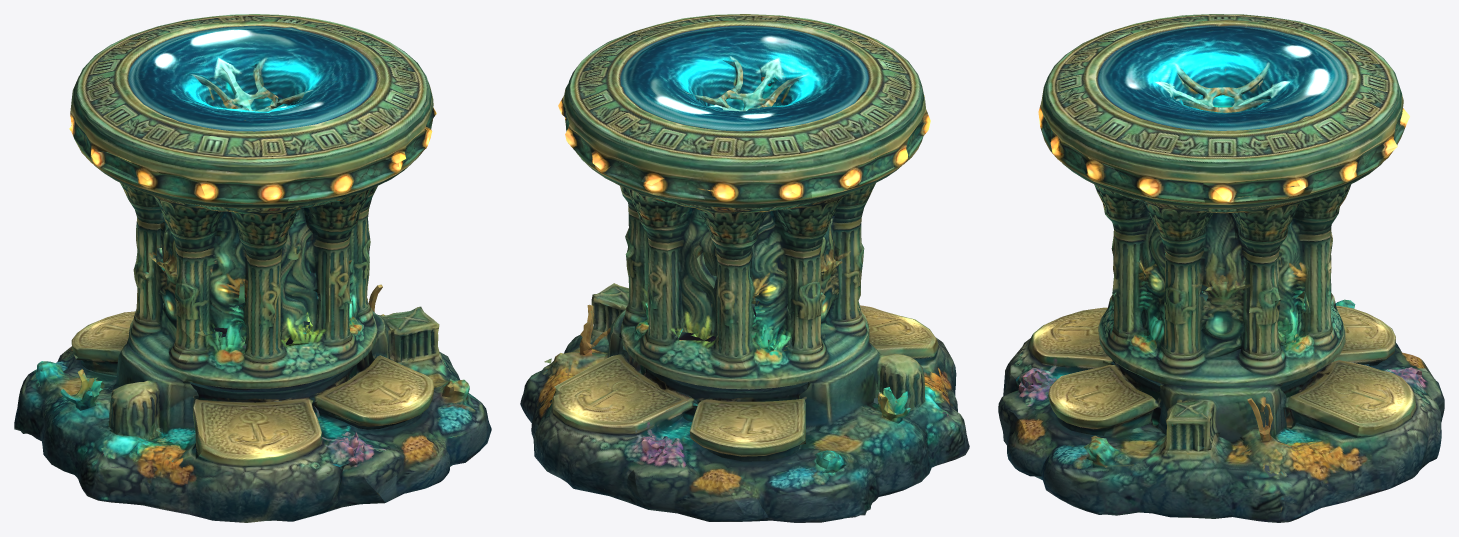
File: bumper_lvl_2.glb
The picture shows the model from 3 angles, left to right: view 1: azimuth 30°, elevation 25°; view 2: azimuth 150°, elevation 25°; view 3: azimuth 270°, elevation 25°; orthographic projection.
Parts seen in each view (by area): view 1: Mesh0; view 2: Mesh0; view 3: Mesh0.
Part boxes in pixels (x1,y1,x2,y2): Mesh0: [14, 14, 491, 522]; Mesh0: [520, 14, 969, 522]; Mesh0: [998, 14, 1444, 522].
Size of the model in its own units: 0.076 by 0.0665 by 0.0757.
Materials: 1 (1 with a texture image).
